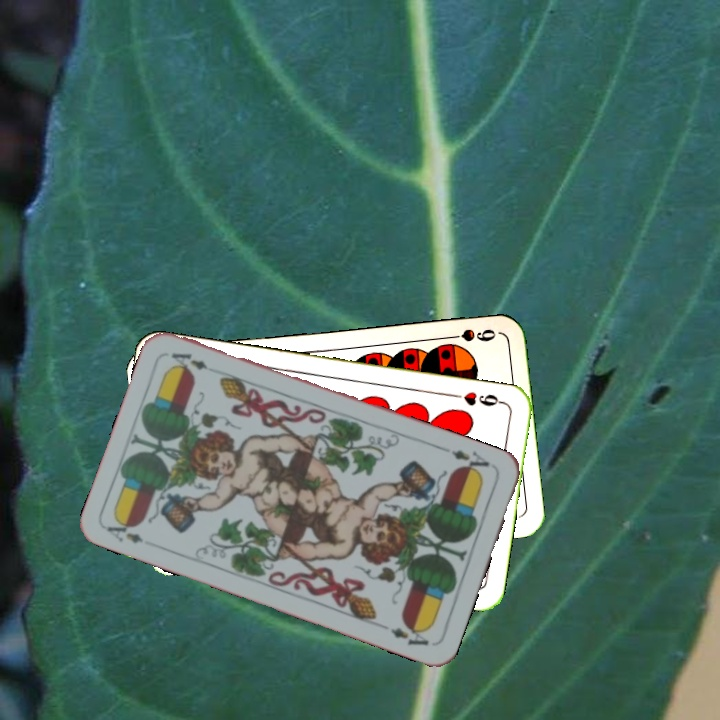EA: (439, 444, 492, 478), (102, 514, 146, 547)
H9: (447, 388, 507, 409)
S9: (440, 324, 499, 344)
